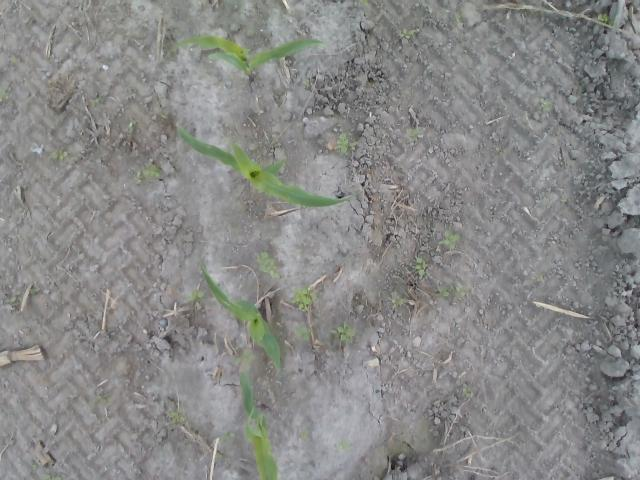Maize: (172, 121, 361, 210), (195, 255, 284, 374), (164, 35, 326, 78), (238, 369, 282, 480)
Weeds: (256, 250, 281, 281), (134, 163, 164, 188), (330, 320, 356, 346), (434, 282, 471, 300), (290, 286, 316, 310), (436, 230, 462, 252), (336, 132, 356, 156), (292, 325, 318, 343), (183, 290, 205, 311), (412, 256, 429, 280), (166, 408, 187, 424), (399, 28, 422, 40), (48, 150, 71, 161), (92, 393, 110, 407), (390, 298, 410, 310), (336, 440, 354, 453), (593, 13, 611, 24), (540, 97, 554, 111), (40, 473, 66, 480), (92, 93, 105, 107), (406, 127, 420, 139), (298, 425, 307, 442), (0, 90, 9, 106), (127, 121, 136, 137), (8, 295, 22, 305), (454, 11, 462, 23), (301, 77, 310, 87), (535, 274, 543, 284), (462, 388, 472, 396), (29, 289, 36, 296)
